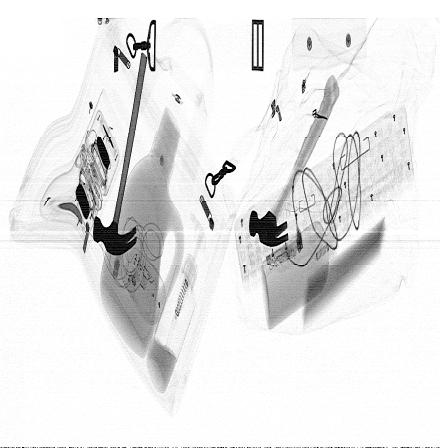Hammer: (248, 73, 341, 248), (93, 52, 148, 256)
